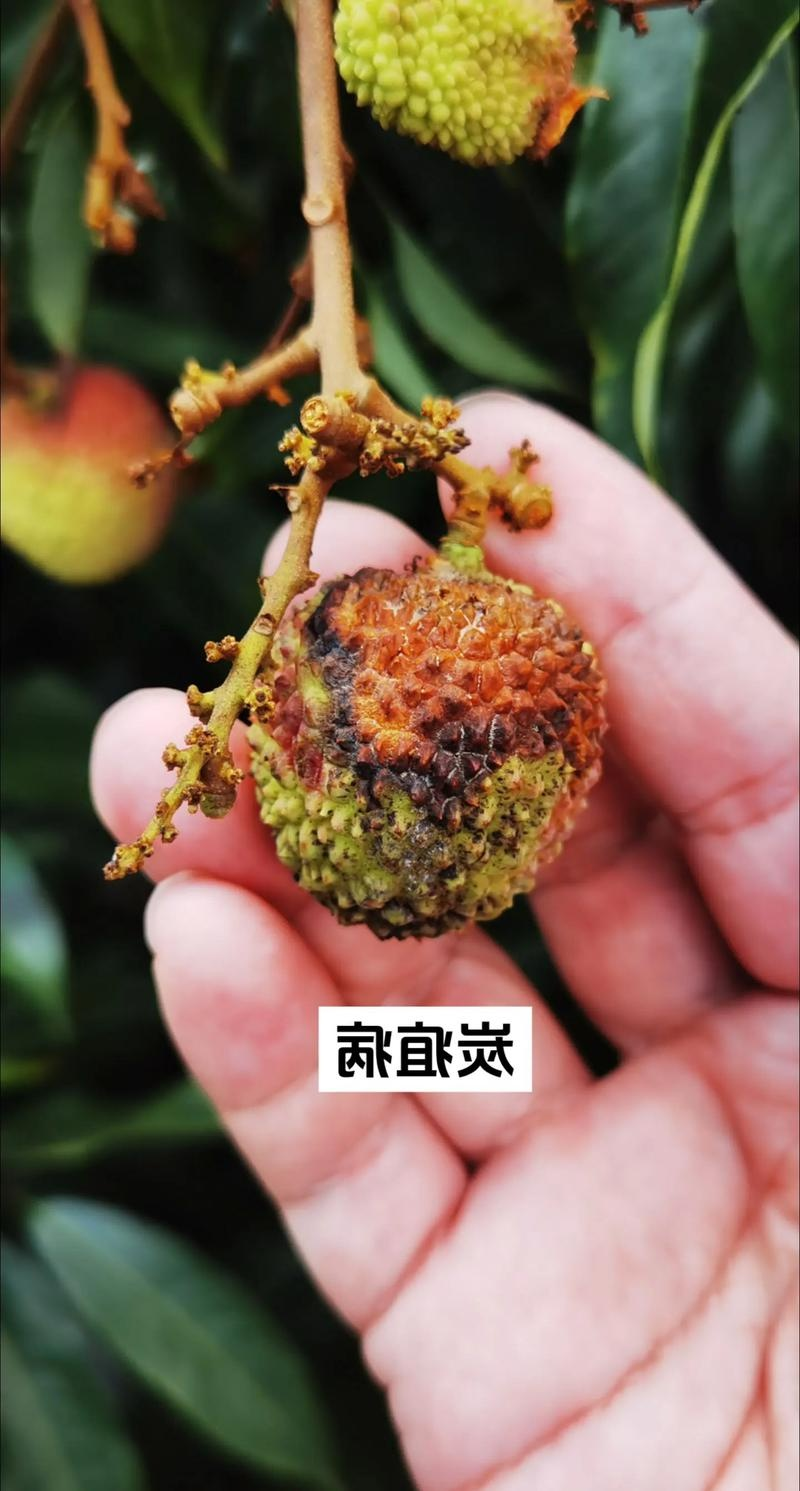Anthracnose: (290, 480, 610, 801)
